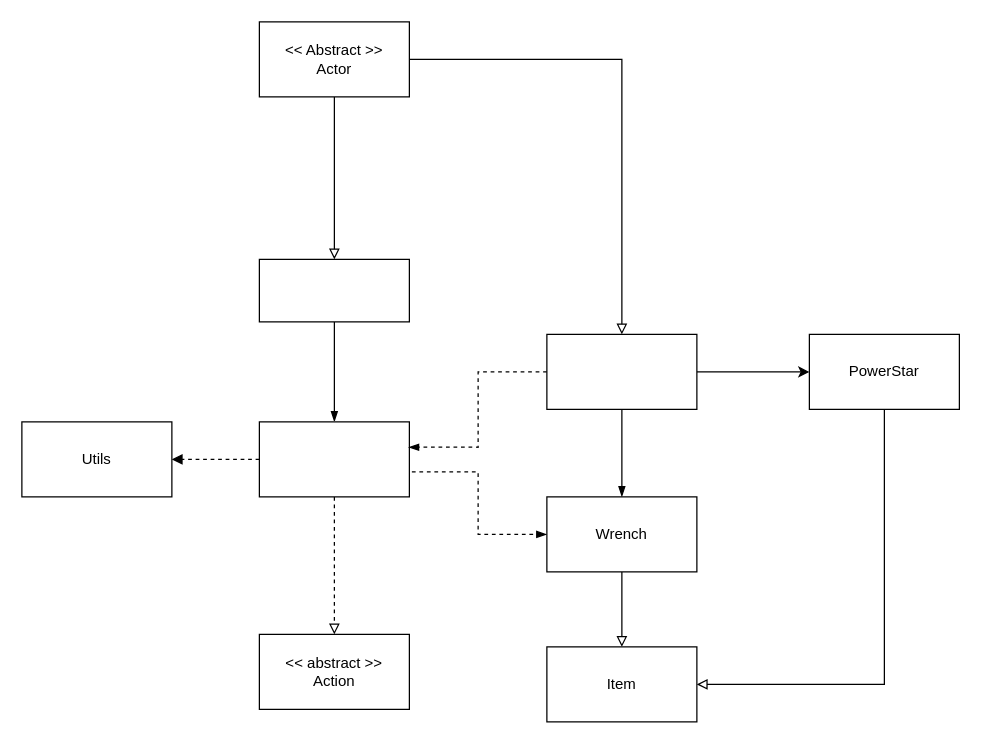
Image size: 981x744. Some labels were removed from this diagram. Here are the shapes that lost their labels. From the top down, the centre of each, then its label:
At pixel 333 290: "Toad (o)".
At pixel 621 371: "Player".
At pixel 333 459: "Monologue".
